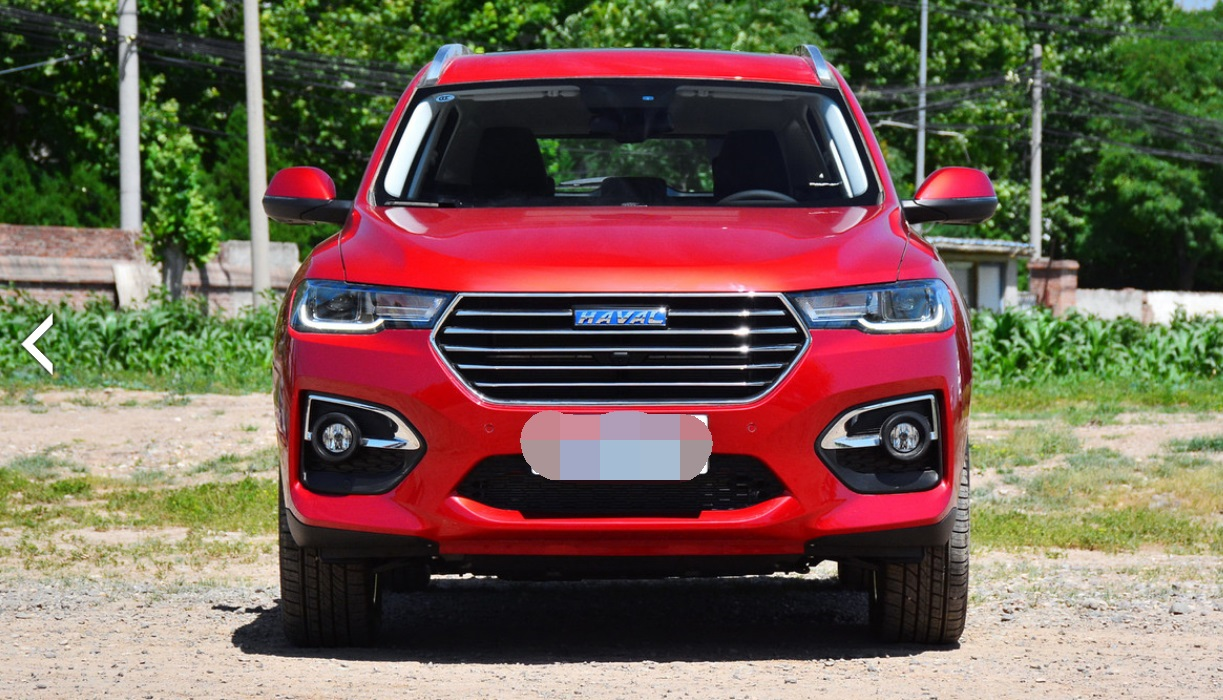SUV: (261, 36, 1005, 649)
